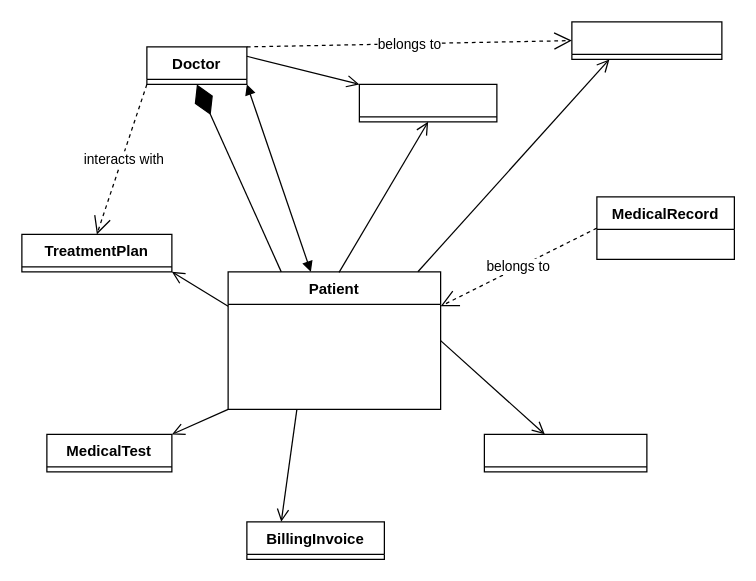
The diagram is 756 pixels wide and 581 high, and some of its shapes have lost their labels. Here are the shapes that lost their labels. From the top down, the centre of each, then its label:
At [646,40]: "MedicalFacility".
At [427,102]: "Appointment".
At [565,452]: "MedicalInsurance".
